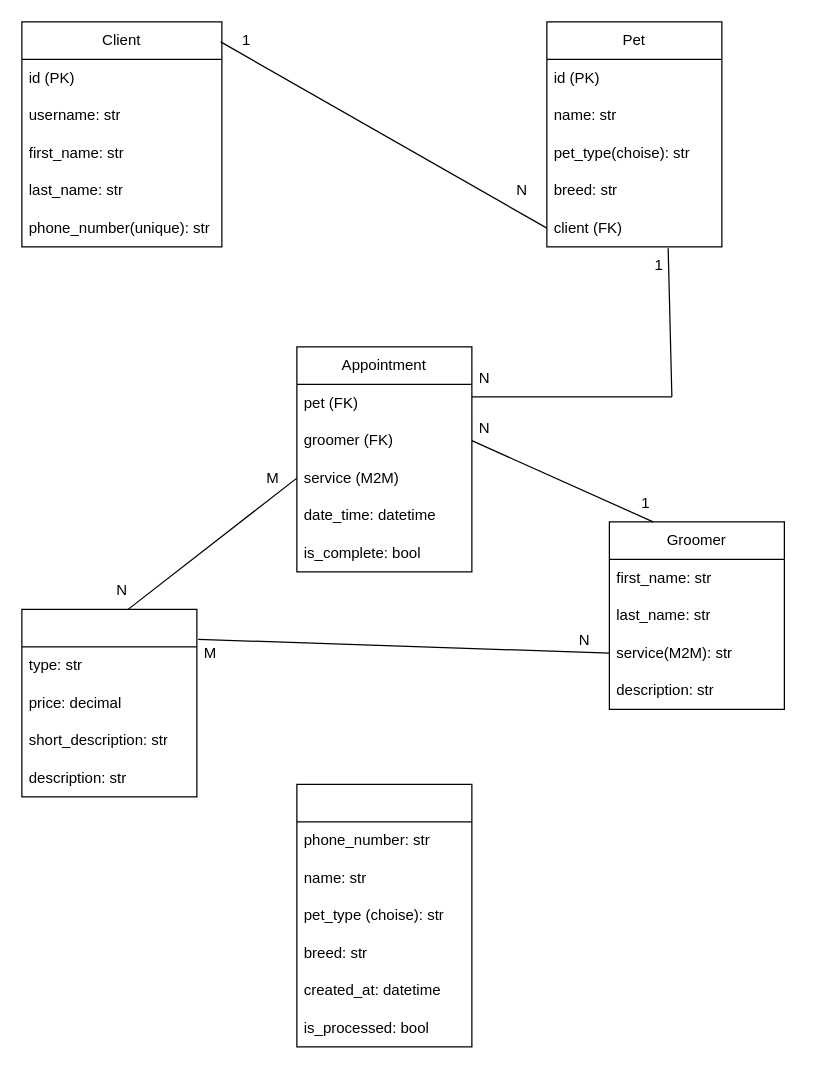
Image size: 831x1069. Some labels were removed from this diagram. The box of each missing label's shape, as (x1, y1, x2, y2) in pixels:
GuestQuickRequest: (296, 783, 472, 1047)
Service: (21, 608, 197, 797)
